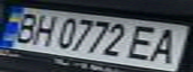0: (51, 15, 78, 51)
2: (103, 20, 133, 60)
7: (87, 18, 112, 56), (69, 17, 93, 53)
A: (142, 26, 190, 65)
B: (3, 10, 45, 44)
E: (121, 23, 166, 62)
H: (24, 11, 60, 47)
